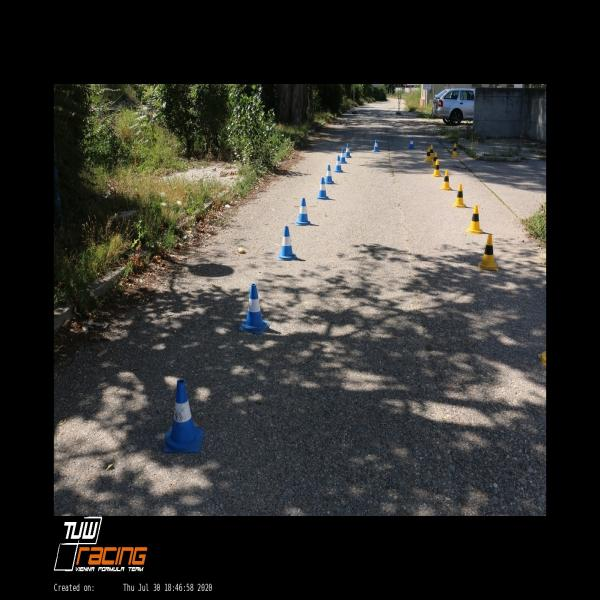blue_cone: (162, 378, 205, 452), (239, 283, 271, 334), (277, 226, 296, 261), (295, 198, 311, 225), (316, 178, 329, 199), (324, 165, 334, 184), (334, 155, 343, 173), (340, 147, 347, 164), (372, 138, 380, 152), (344, 143, 351, 158), (408, 137, 415, 149)
yellow_cone: (478, 233, 498, 271), (464, 204, 484, 234), (452, 184, 467, 208), (439, 169, 452, 190), (430, 159, 442, 178), (424, 146, 433, 162), (450, 143, 458, 158), (431, 151, 437, 168), (430, 143, 434, 159)
